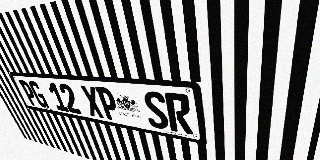1: (46, 82, 69, 112)
2: (57, 83, 82, 114)
G: (27, 81, 50, 108)
P: (95, 86, 121, 121), (18, 80, 40, 107)
R: (164, 92, 193, 135)
S: (142, 90, 170, 130)
X: (80, 85, 105, 118)
